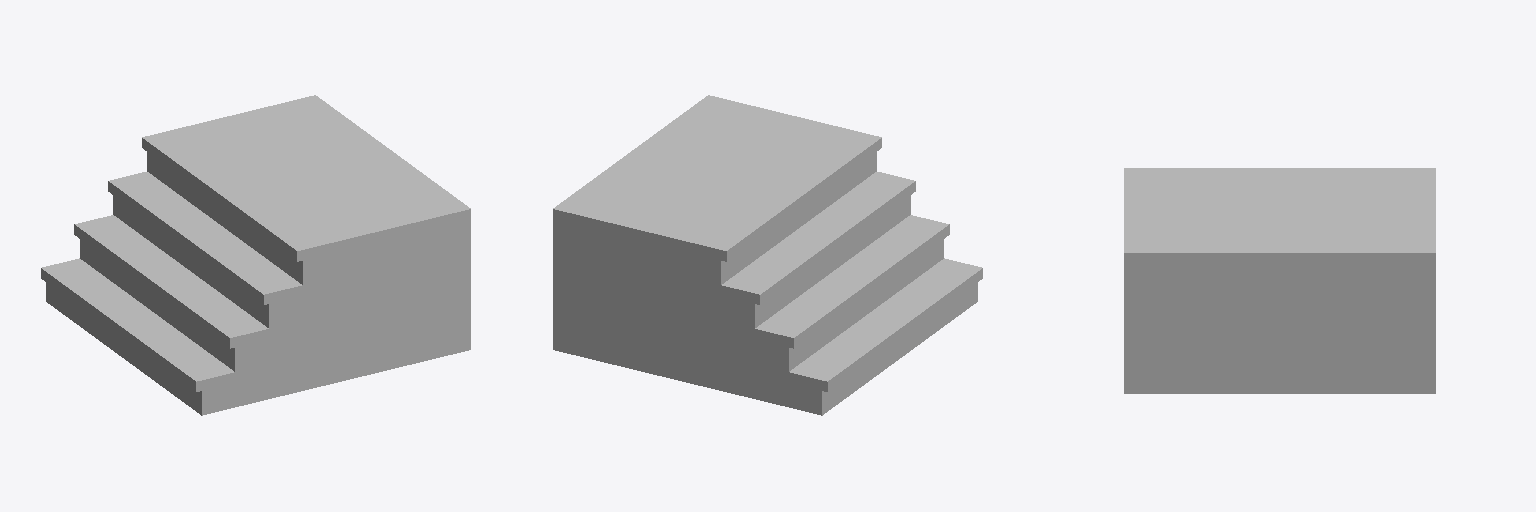
Rendered from stairsFull.obj.
3 renders of one model, left to right at view 1: azimuth 30°, elevation 25°; view 2: azimuth 150°, elevation 25°; view 3: azimuth 270°, elevation 25°, orthographic.
Parts seen in each view (by area): view 1: stairsFull; view 2: stairsFull; view 3: stairsFull.
Part boxes in pixels (bbox=[...]): stairsFull: bbox=[41, 95, 470, 415]; stairsFull: bbox=[553, 95, 982, 415]; stairsFull: bbox=[1124, 168, 1435, 393].
Size of the model in its own units: 1.02 by 0.5 by 1.